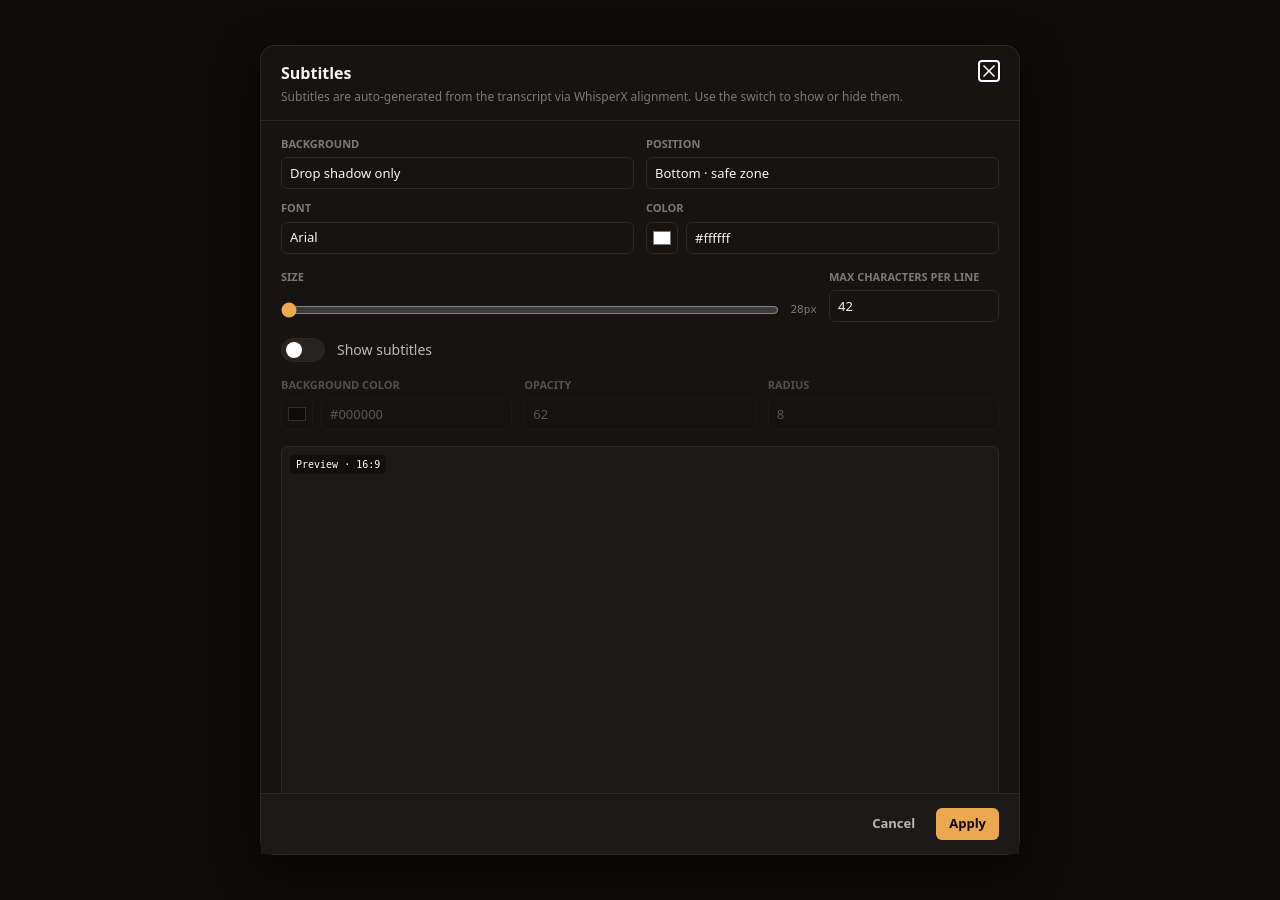
it: EditorModal › disables background rectangle controls by mode
The image size is (1280, 900).
Expected: the field labelled "Background color" is disabled, x1=321 y1=398 x2=512 y2=430
Expected: the number field labelled "Opacity" is disabled, x1=524 y1=398 x2=756 y2=430
Select "None" in the dropdown labelled "Background" at (458, 173), box x1=281 y1=157 x2=634 y2=189
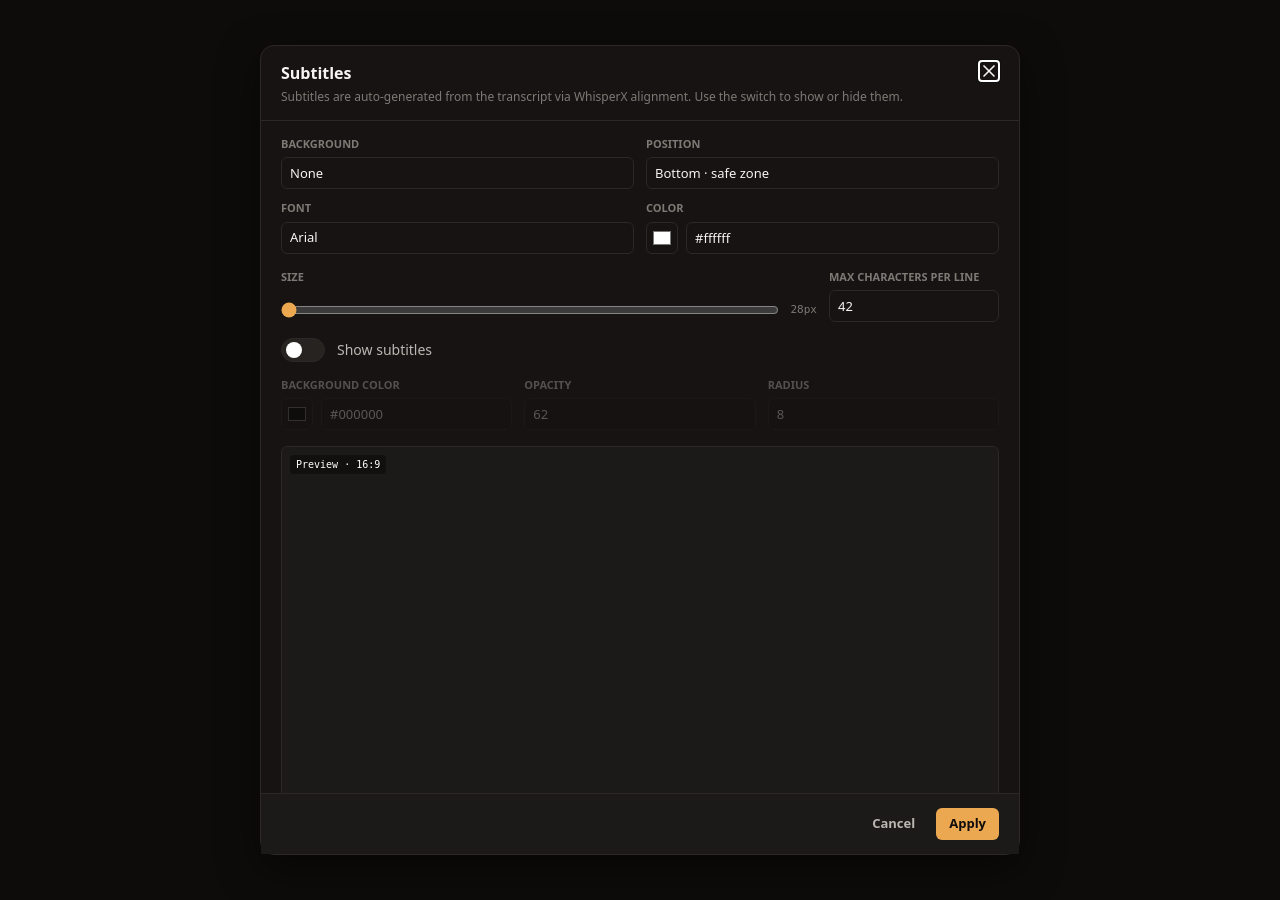
Expected: the field labelled "Background color" is disabled, x1=321 y1=398 x2=512 y2=430
Expected: the number field labelled "Opacity" is disabled, x1=524 y1=398 x2=756 y2=430
Select "Pill · 60% black" in the dropdown labelled "Background" at (458, 173), box x1=281 y1=157 x2=634 y2=189
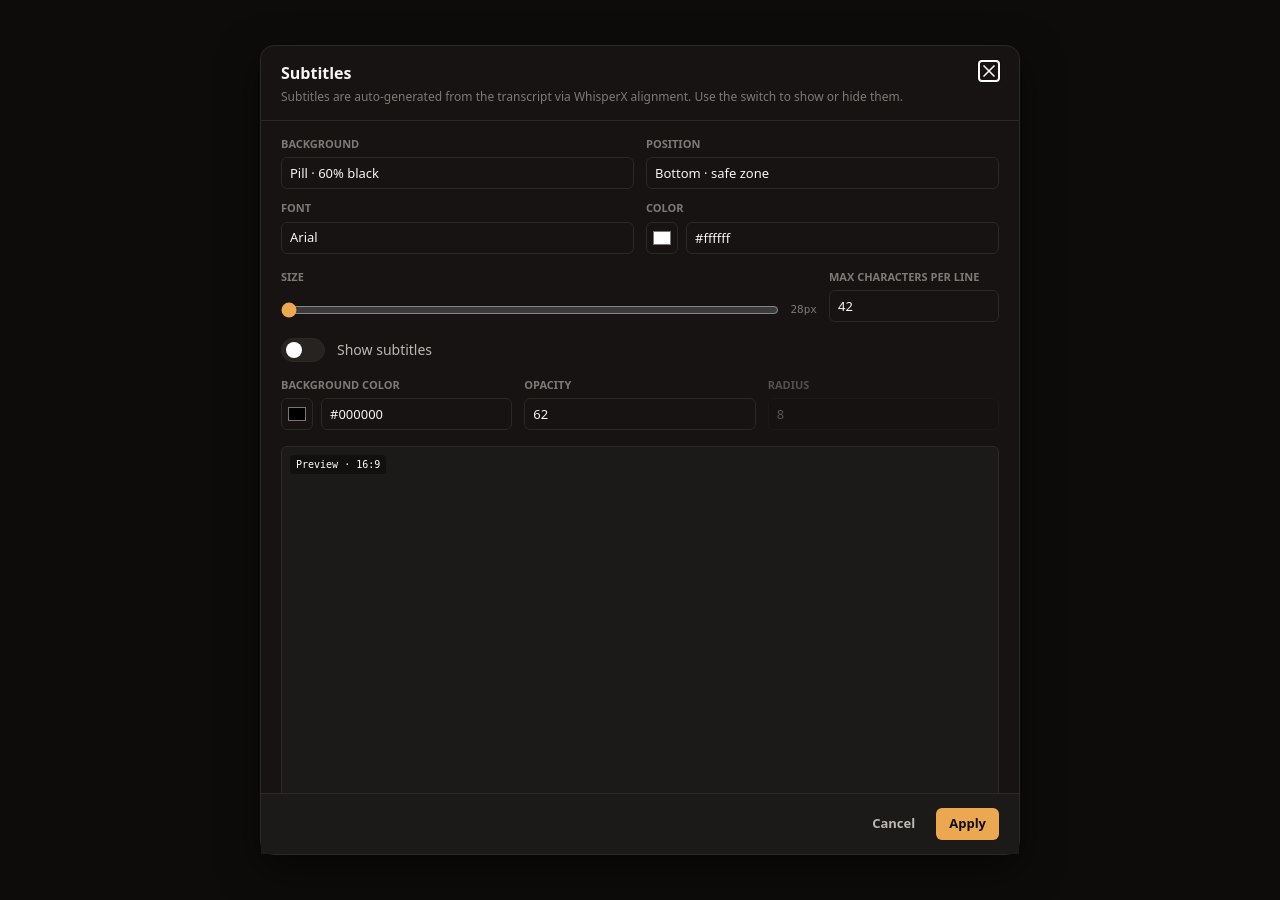
Expected: the number field labelled "Radius" is disabled, x1=768 y1=398 x2=999 y2=430
Result: the field labelled "Background color" is enabled at x1=321 y1=398 x2=512 y2=430
Result: the number field labelled "Opacity" is enabled at x1=524 y1=398 x2=756 y2=430
Select "Block · 80% black" in the dropdown labelled "Background" at (458, 173), box x1=281 y1=157 x2=634 y2=189
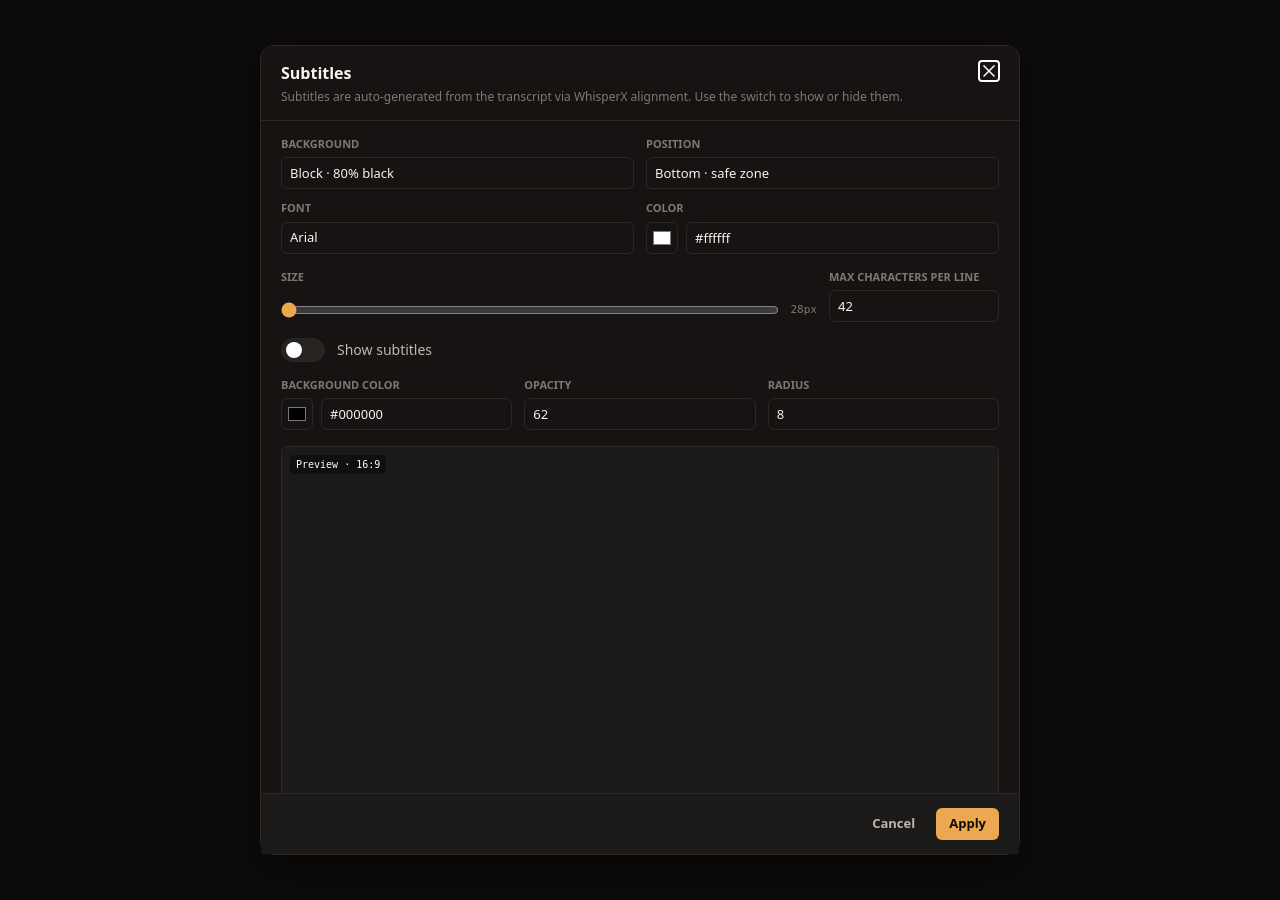
Result: the field labelled "Background color" is enabled at x1=321 y1=398 x2=512 y2=430
Result: the number field labelled "Opacity" is enabled at x1=524 y1=398 x2=756 y2=430
Result: the number field labelled "Radius" is enabled at x1=768 y1=398 x2=999 y2=430
